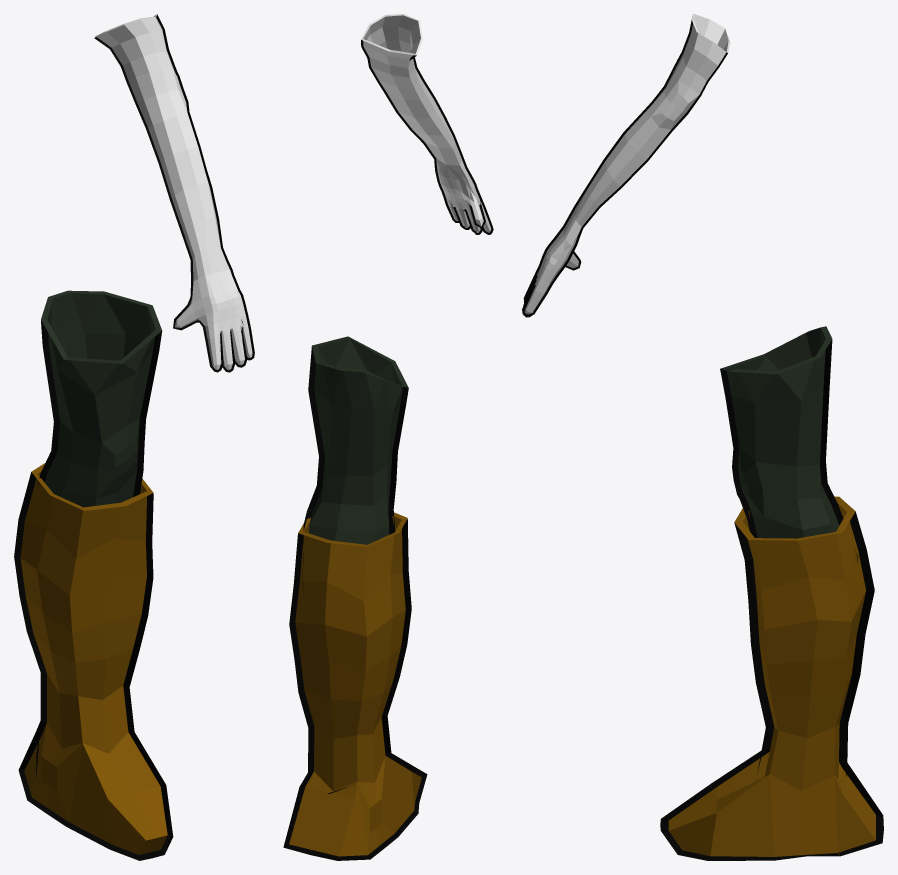
The model's file is armsnlegs2_.fbx.
3 views of the same model, side by side, from view 1: azimuth 30°, elevation 25°; view 2: azimuth 150°, elevation 25°; view 3: azimuth 270°, elevation 25° (orthographic). The views are drawn at different scales.
Visible parts, largest first — view 1: leg, arm; view 2: leg, arm; view 3: leg, arm.
Part boxes in pixels (x1,y1,x2,y2): leg: (14,290,173,860); arm: (94,14,254,372); leg: (283,336,427,860); arm: (361,14,493,234); leg: (660,326,883,860); arm: (522,14,730,317).
Size of the model in its own units: 17.68 by 135 by 53.36.
